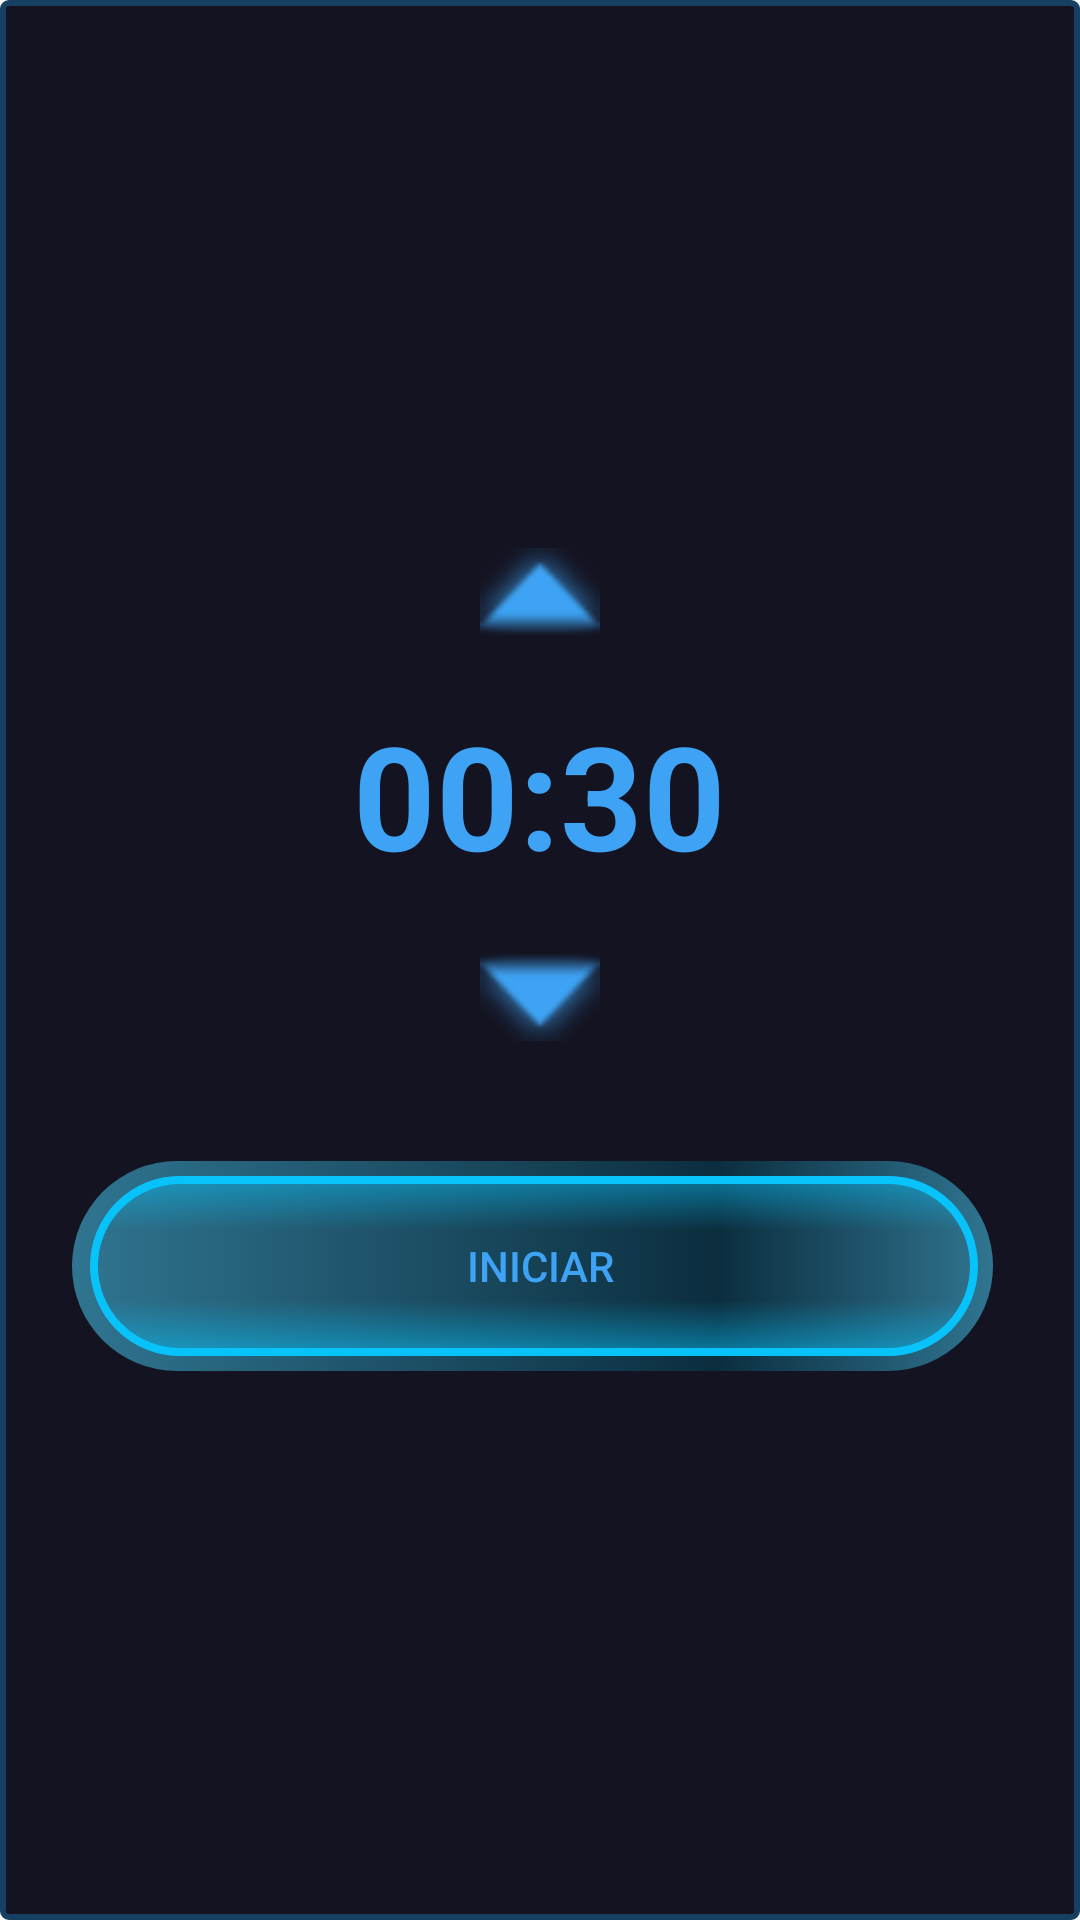

Named icons in this screenshot (1080px×1920px) and their bounding boxes, (x1, y1, x2, y2):
arrow down float: (480, 957, 600, 1037)
arrow up float: (480, 552, 600, 632)
